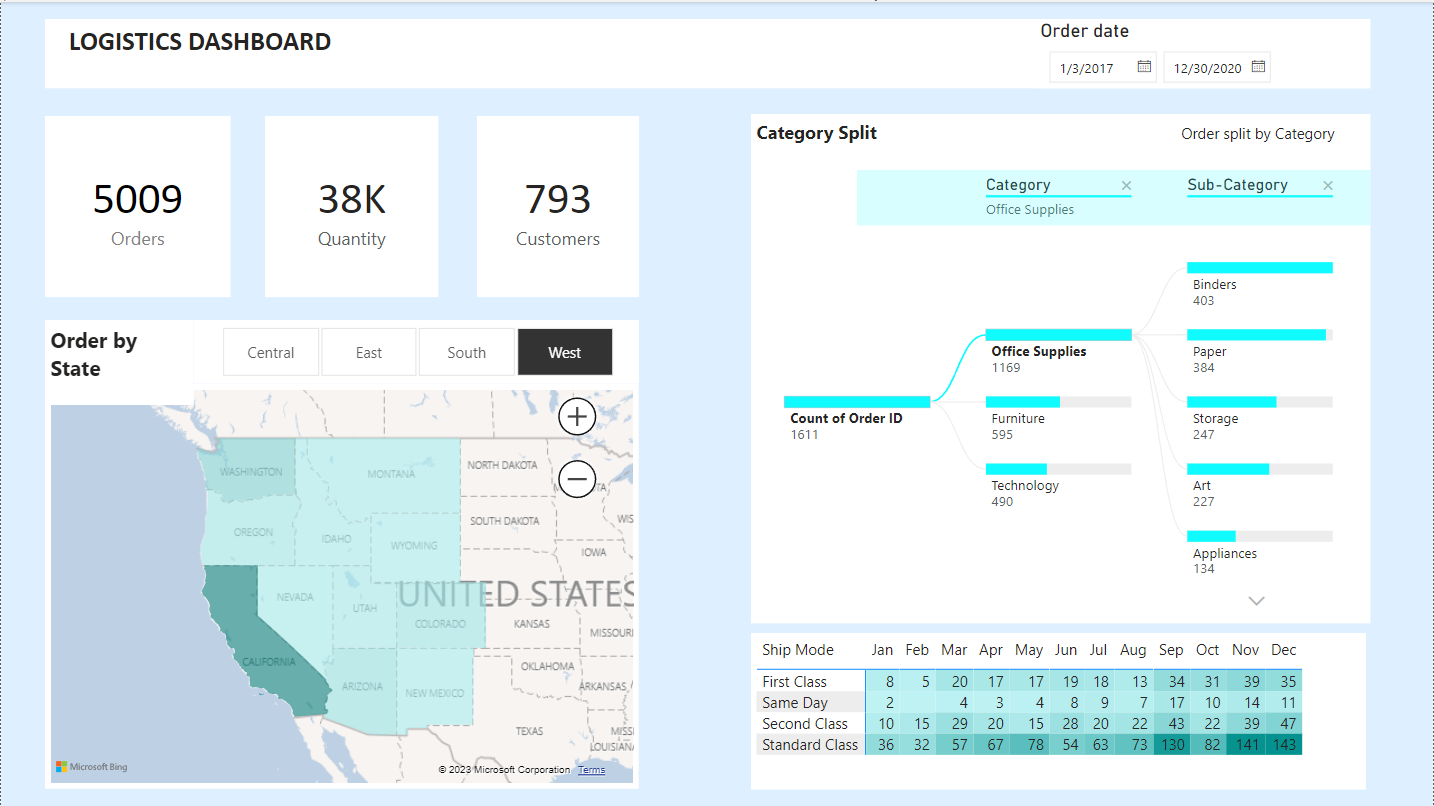

This screenshot's page, from the dashboard's own definition file:
{"tool":"powerbi","page":{"name":"Page 1","canvas":[1280,720],"ordinal":0},"visuals":[{"type":"card","fields":{"Values":["Count(Sheet1.Order ID)"]},"box":[39.7,101.8,165.6,162.2],"z":0},{"type":"card","fields":{"Values":["Sum(Sheet1.Quantity)"]},"box":[236.3,101.8,155.3,162.2],"z":1000},{"type":"card","fields":{"Values":["Count(Sheet1.Customer ID)"]},"box":[426.1,101.8,144.9,162.2],"z":2000},{"type":"decompositionTreeVisual","fields":{"Analyze":["Count(Sheet1.Order ID)"],"ExplainBy":["Sheet1.Category","Sheet1.Sub-Category"]},"box":[670.8,137.7,553.6,417.7],"z":3000},{"type":"shape","box":[765.9,138,458.9,62.1],"z":4000},{"type":"textbox","box":[670.8,100.2,553.6,50.1],"z":5000},{"type":"pivotTable","fields":{"Rows":["Sheet1.Ship Mode"],"Columns":["Sheet1.Short Month"],"Values":["Count(Sheet1.Order ID)"]},"box":[671.1,564.1,550.3,139.7],"z":6000},{"type":"filledMap","fields":{"Category":["Sheet1.State"]},"box":[39.7,341.6,531.3,362.3],"z":7000},{"type":"slicer","fields":{"Values":["Sheet1.Region"]},"box":[172.5,284.6,398.5,56.9],"z":8000},{"type":"textbox","box":[39.7,284.6,132.8,75.9],"z":9000},{"type":"textbox","box":[39.7,15.5,1181.7,62.1],"z":10000},{"type":"slicer","title":"Order date","fields":{"Values":["Sheet1.Order Date"]},"box":[924.6,15.5,300.2,62.1],"z":11000}]}

Visuals, with their boxes in screenshot pixels (x1, y1, x2, y2), scaled from the page's 1280x720 canvas onto the 1434x806 screenshot:
card - Count(Sheet1.Order ID): bbox=[44, 114, 230, 296]
card - Sum(Sheet1.Quantity): bbox=[265, 114, 439, 296]
card - Count(Sheet1.Customer ID): bbox=[477, 114, 640, 296]
decompositionTreeVisual - Count(Sheet1.Order ID) x Sheet1.Category: bbox=[752, 154, 1372, 622]
shape: bbox=[858, 154, 1372, 224]
textbox: bbox=[752, 112, 1372, 168]
pivotTable - Sheet1.Ship Mode x Sheet1.Short Month: bbox=[752, 631, 1368, 788]
filledMap - Sheet1.State: bbox=[44, 382, 640, 788]
slicer - Sheet1.Region: bbox=[193, 319, 640, 382]
textbox: bbox=[44, 319, 193, 404]
textbox: bbox=[44, 17, 1368, 87]
"Order date" slicer: bbox=[1036, 17, 1372, 87]
